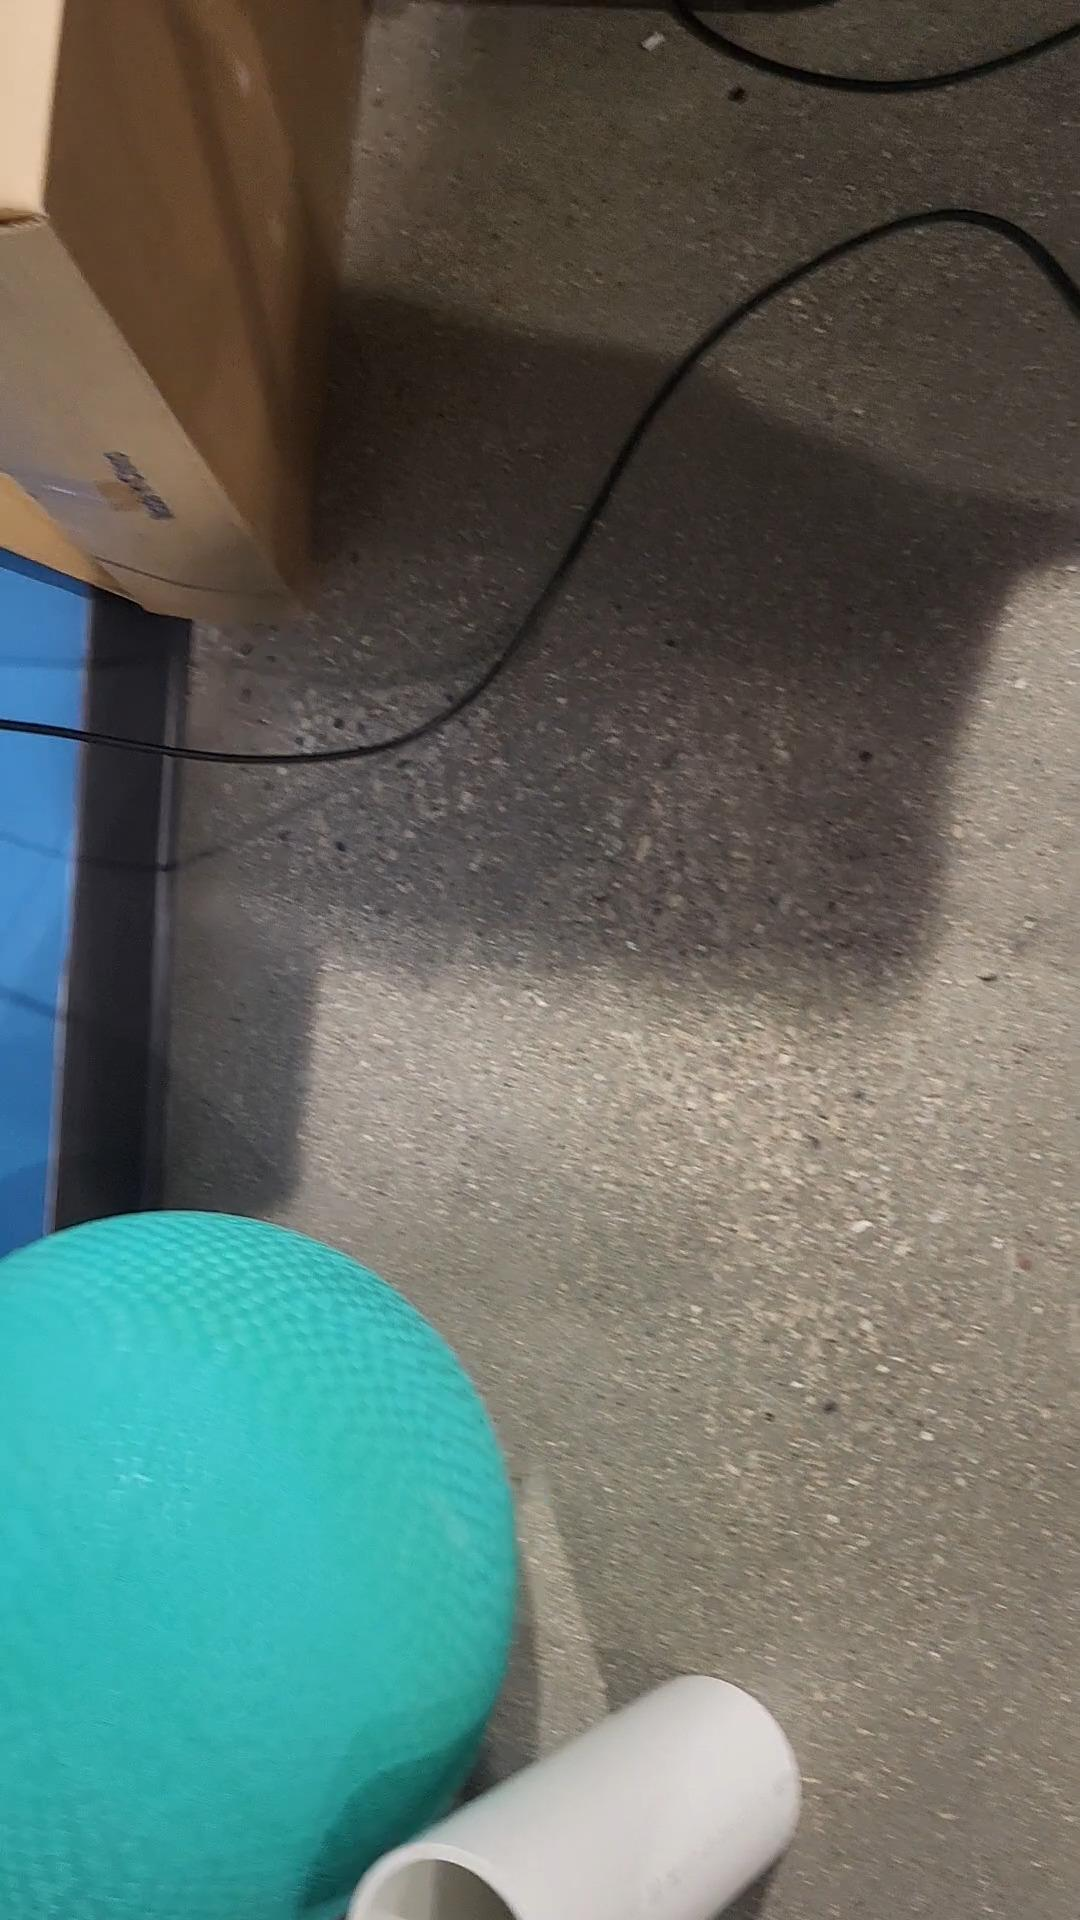algae: (0, 1205, 517, 1920)
coral: (352, 1672, 804, 1919)
